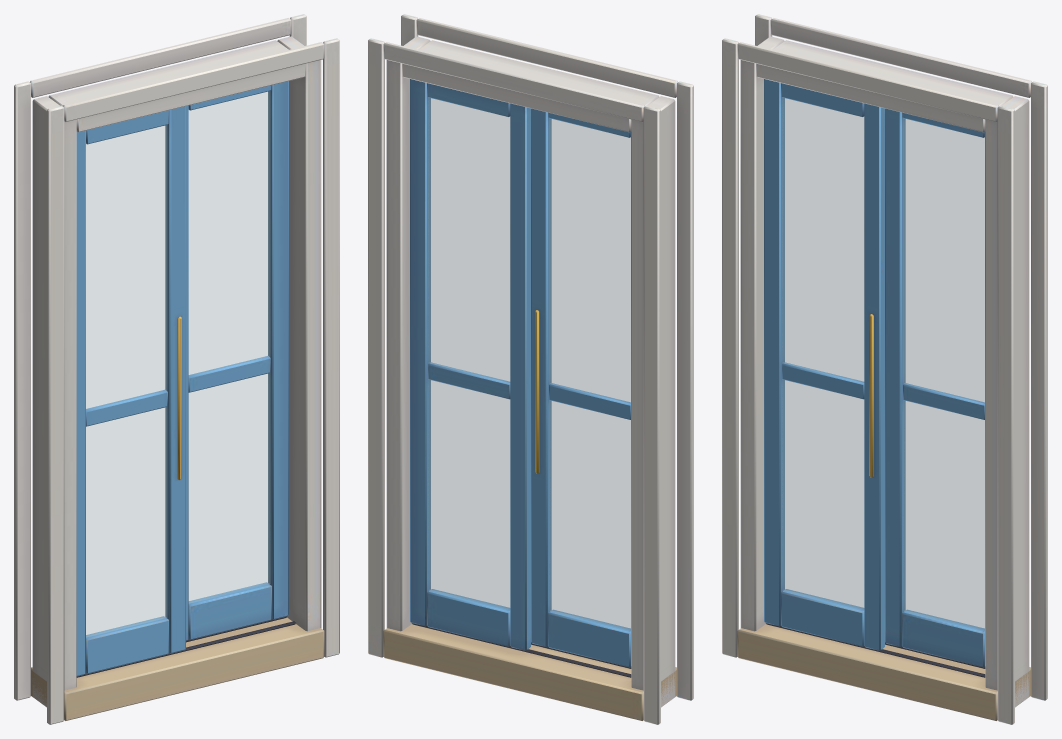
File: sliding-door.glb
The picture shows the model from 3 angles, left to right: view 1: azimuth 30°, elevation 25°; view 2: azimuth 150°, elevation 25°; view 3: azimuth 330°, elevation 25°; orthographic projection.
Parts seen in each view (by area): view 1: sliding-door_body, sliding-door_glass_fixed, sliding-door_glass_slide, sliding-door_slide; view 2: sliding-door_body, sliding-door_glass_slide, sliding-door_glass_fixed, sliding-door_slide; view 3: sliding-door_body, sliding-door_glass_fixed, sliding-door_glass_slide, sliding-door_slide.
Part boxes in pixels (x1,y1,x2,y2): sliding-door_body: [14, 14, 339, 724]; sliding-door_glass_fixed: [189, 91, 270, 603]; sliding-door_glass_slide: [86, 125, 167, 637]; sliding-door_slide: [76, 106, 185, 676]; sliding-door_body: [368, 14, 693, 724]; sliding-door_glass_slide: [549, 118, 630, 630]; sliding-door_glass_fixed: [428, 98, 509, 609]; sliding-door_slide: [531, 108, 631, 667]; sliding-door_body: [722, 14, 1047, 724]; sliding-door_glass_fixed: [903, 118, 984, 630]; sliding-door_glass_slide: [782, 98, 863, 609]; sliding-door_slide: [764, 79, 884, 650].
Bounding box in the file's own units: 1.12 × 2.26 × 0.24.
4 materials, 2 textured.
